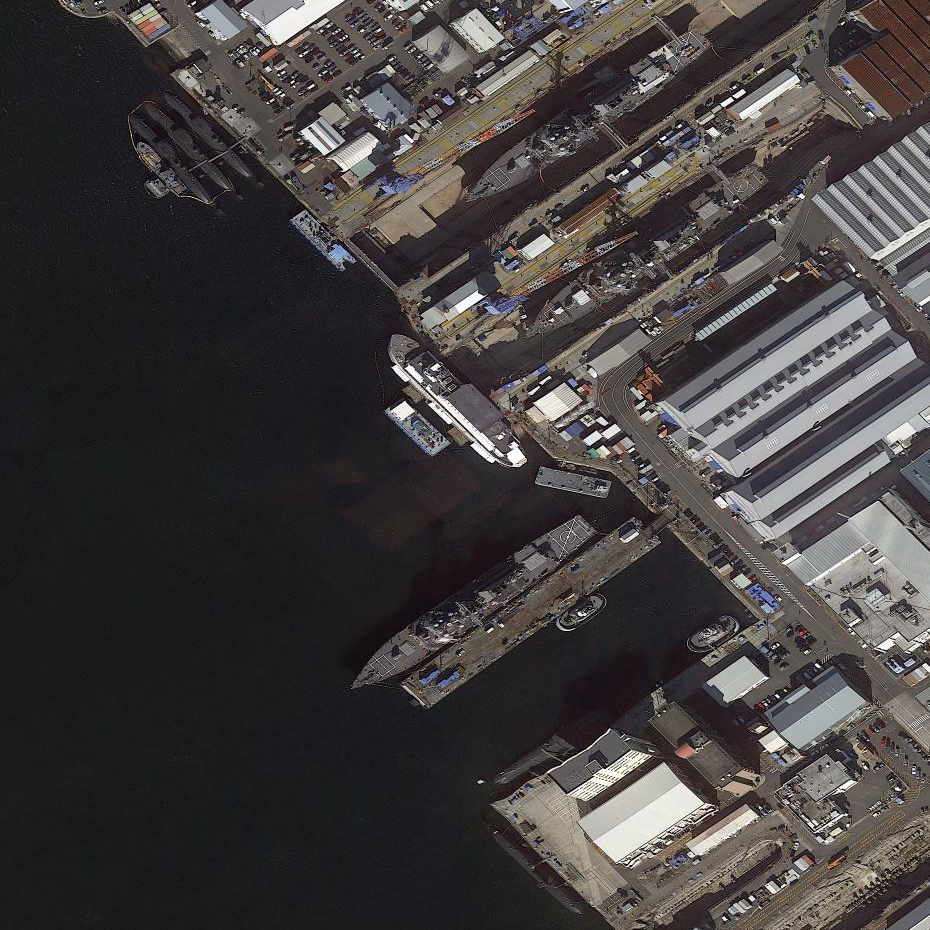Arleigh Burke DD: (341, 510, 601, 700)
Dock: (398, 509, 660, 717)
Hovercraft: (682, 608, 744, 660), (551, 588, 611, 636)
Other Auxiliary Ship: (380, 319, 538, 479)
Other Warship: (132, 139, 192, 201), (143, 173, 171, 201)
Submarine: (483, 818, 585, 920), (164, 87, 262, 187), (140, 98, 238, 196), (122, 112, 218, 210), (489, 716, 593, 794)
